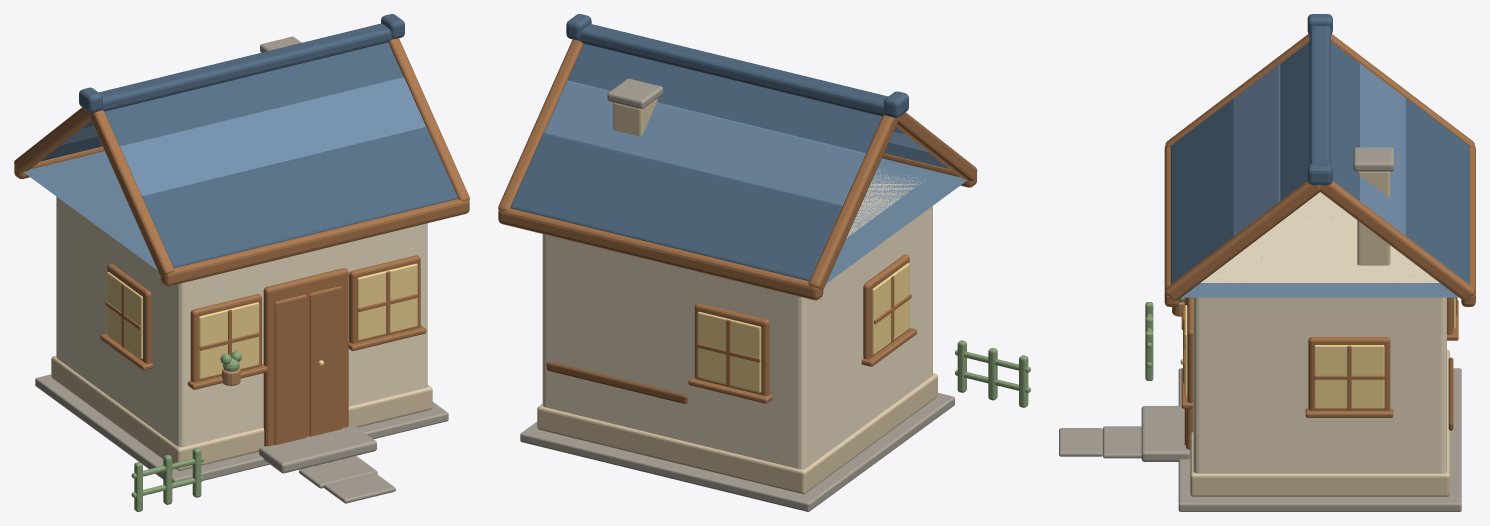
Rendered from house_v2.glb.
3 views of the same model, side by side, from view 1: azimuth 30°, elevation 25°; view 2: azimuth 150°, elevation 25°; view 3: azimuth 270°, elevation 25° (orthographic). The views are drawn at different scales.
Visible parts, largest first — view 1: wall, band_-1_0, band_-1_1, band_-1_2, base_band, ridge, roof, fascia_f, pad, door_l, door_r, door_frame (+15 smaller); view 2: wall, band_1_0, band_1_1, band_1_2, base_band, pad, ridge, roof, fascia_b, bwin_glass, barge_-1_1, swin_l_glass (+9 smaller); view 3: wall, band_-1_0, band_1_0, base_band, band_-1_1, pad, band_1_1, swin_r_glass, band_-1_2, roof, band_1_2, barge_1_-1 (+15 smaller).
Part boxes in pixels (x1=…): wall: x1=56, y1=196, x2=427, y2=446; band_-1_0: x1=142, y1=127, x2=457, y2=267; band_-1_1: x1=120, y1=77, x2=425, y2=196; band_-1_2: x1=104, y1=42, x2=403, y2=146; base_band: x1=51, y1=355, x2=432, y2=470; ridge: x1=99, y1=23, x2=393, y2=111; roof: x1=23, y1=151, x2=157, y2=270; fascia_f: x1=160, y1=199, x2=469, y2=286; pad: x1=35, y1=374, x2=448, y2=482; door_l: x1=274, y1=294, x2=306, y2=444; door_r: x1=309, y1=286, x2=341, y2=436; door_frame: x1=263, y1=268, x2=348, y2=446; wall: x1=542, y1=168, x2=932, y2=469; band_1_0: x1=510, y1=133, x2=842, y2=280; band_1_1: x1=544, y1=80, x2=865, y2=205; band_1_2: x1=567, y1=44, x2=881, y2=152; base_band: x1=537, y1=373, x2=937, y2=494; pad: x1=520, y1=393, x2=954, y2=511; ridge: x1=579, y1=24, x2=887, y2=116; roof: x1=826, y1=158, x2=967, y2=283; fascia_b: x1=498, y1=208, x2=823, y2=300; bwin_glass: x1=697, y1=311, x2=761, y2=392; barge_-1_1: x1=808, y1=115, x2=898, y2=290; swin_l_glass: x1=872, y1=263, x2=909, y2=354; wall: x1=1193, y1=192, x2=1446, y2=473; band_-1_0: x1=1170, y1=98, x2=1234, y2=284; band_1_0: x1=1405, y1=98, x2=1469, y2=284; base_band: x1=1190, y1=349, x2=1449, y2=496; band_-1_1: x1=1235, y1=64, x2=1280, y2=235; pad: x1=1178, y1=368, x2=1461, y2=511; band_1_1: x1=1360, y1=64, x2=1405, y2=235; swin_r_glass: x1=1314, y1=345, x2=1384, y2=408; band_-1_2: x1=1280, y1=42, x2=1309, y2=200; roof: x1=1181, y1=202, x2=1458, y2=297; band_1_2: x1=1331, y1=42, x2=1359, y2=200; barge_1_-1: x1=1165, y1=181, x2=1320, y2=300.
Size of the model in its own units: 4.23 by 4 by 4.27.
